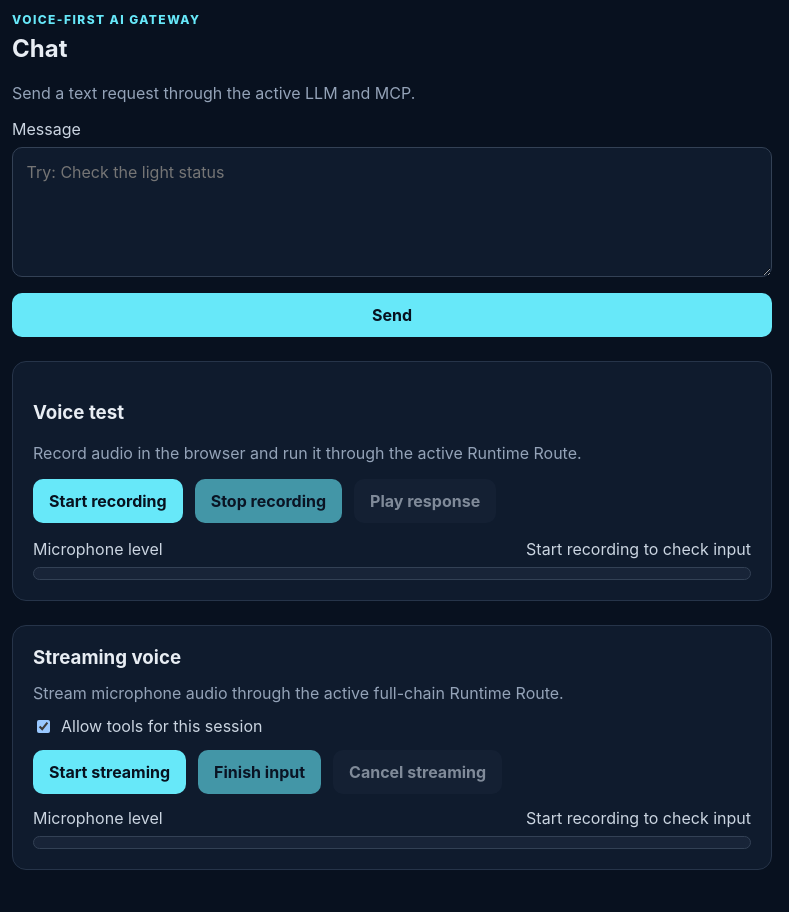
Test: ChatPage › keeps the active run available after cancellation fails
This screenshot has width=789, height=912.
Type "Check the light status" into the text box labelled "Message" at (392, 212), box left=12, top=147, right=772, bottom=277
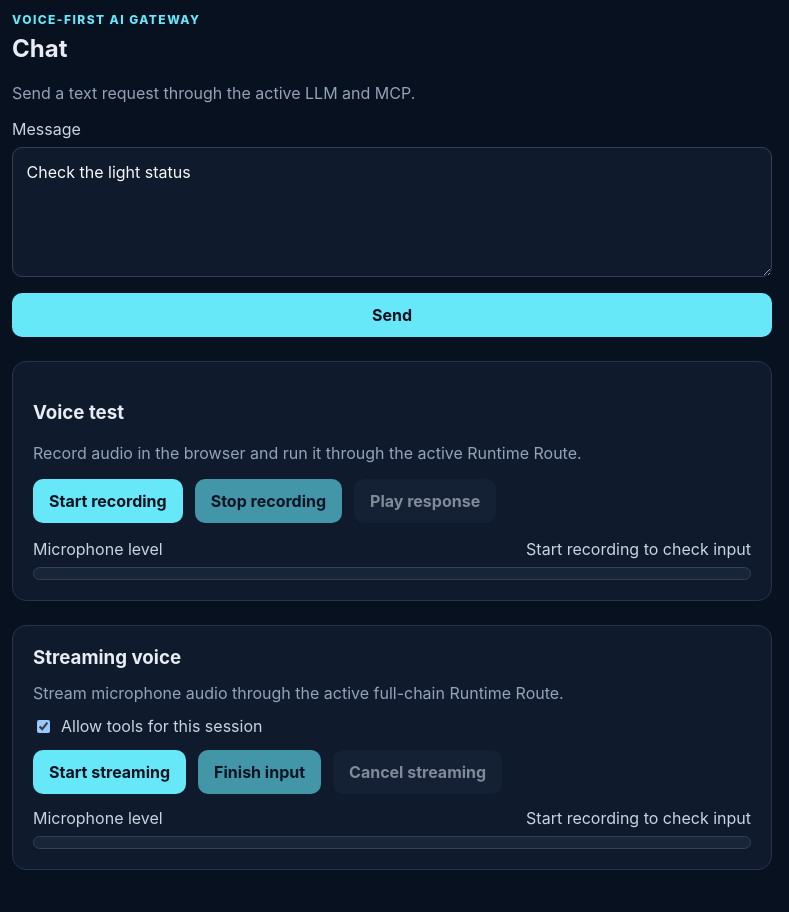
Click the button "Send" at (392, 315), box left=12, top=293, right=772, bottom=337
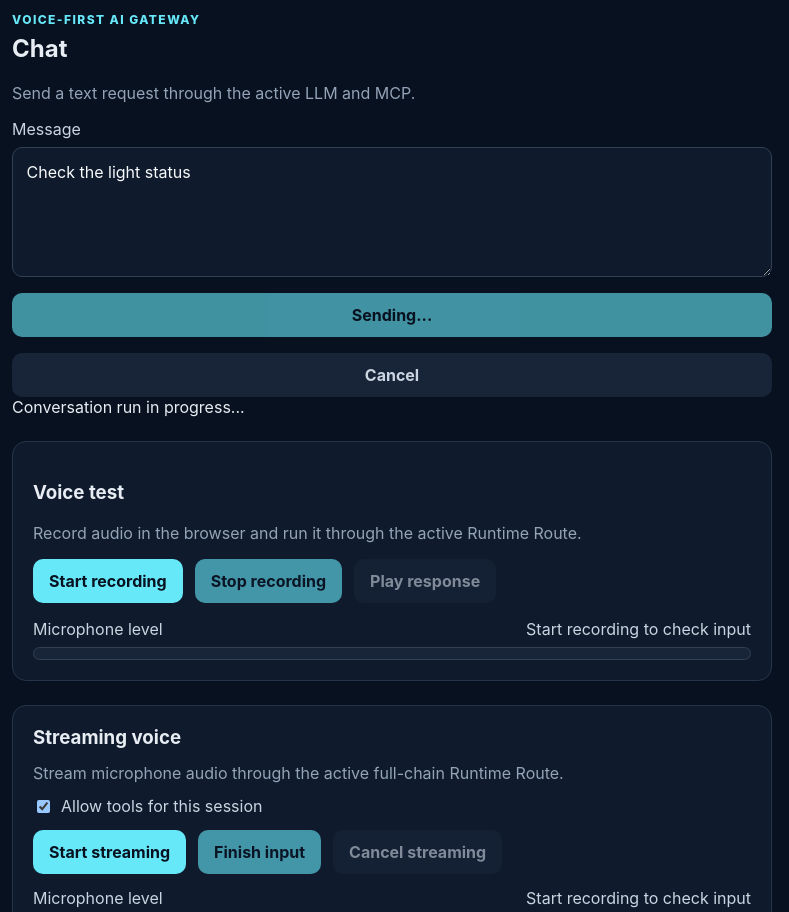
Click the button "Cancel" at (392, 375), box left=12, top=353, right=772, bottom=397
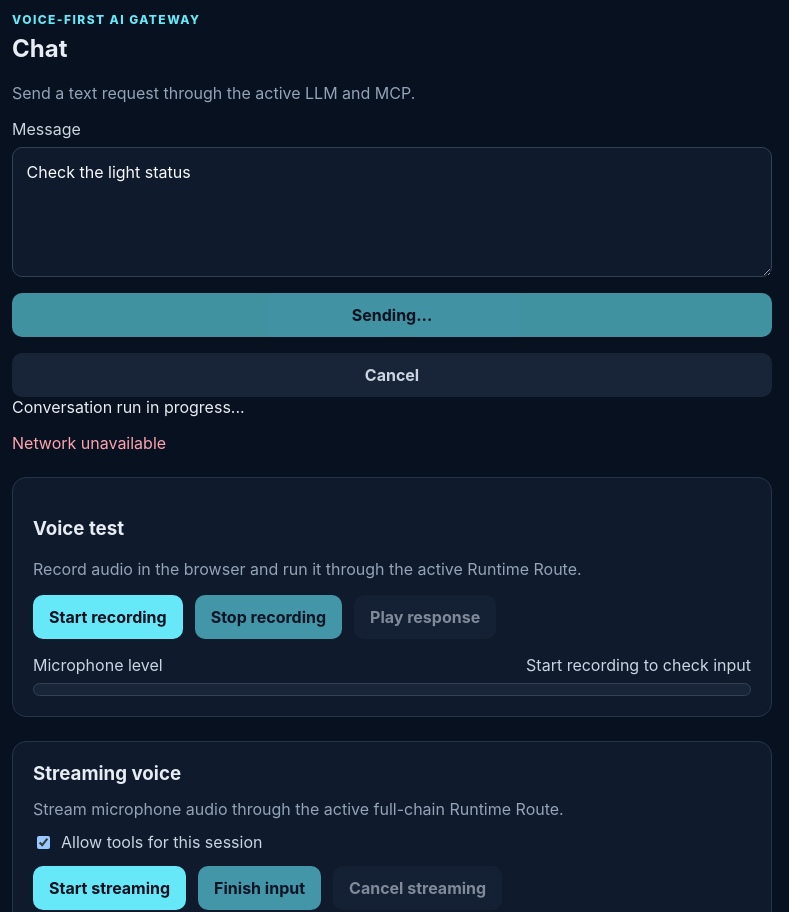
Now the button "Cancel" is enabled, box left=12, top=353, right=772, bottom=397
Now the message "Network unavailable" is shown, box left=12, top=433, right=166, bottom=453
